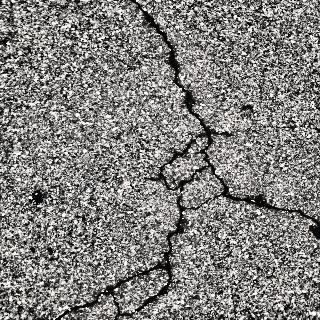crack: (47, 0, 320, 320)
